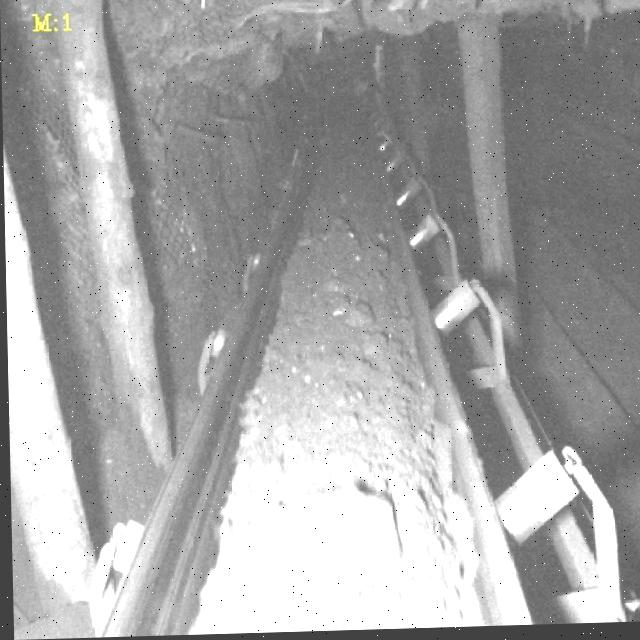large_sized_coal: (269, 488, 398, 588)
